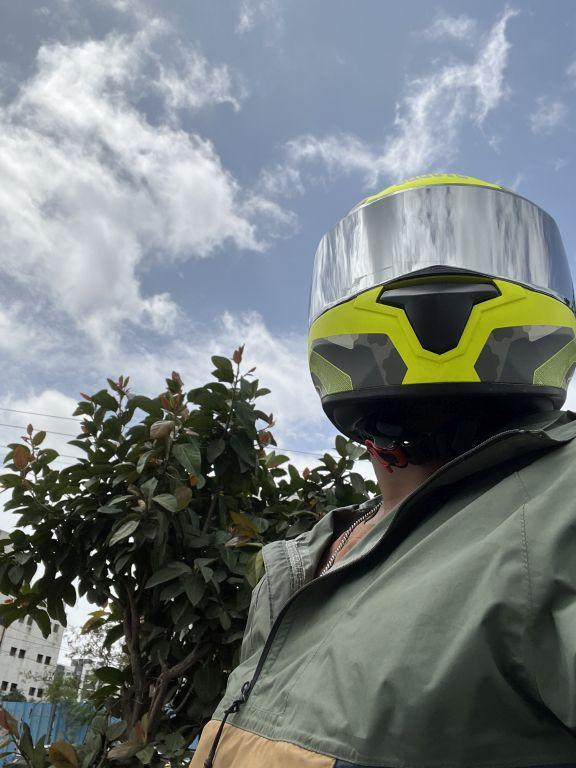helmet: (294, 157, 576, 455)
